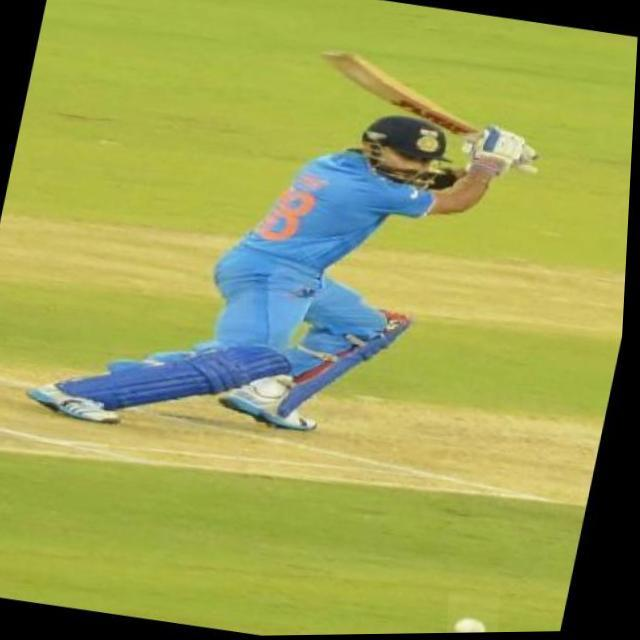-: (454, 592, 507, 634)
